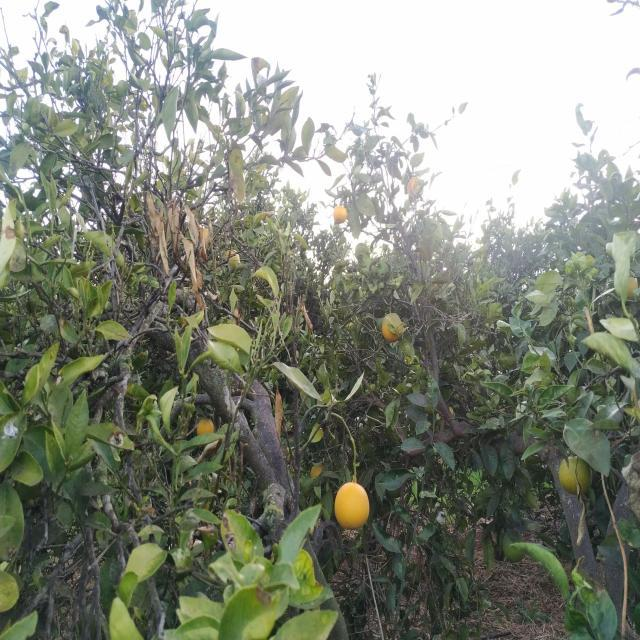Jeruk Belum Matang: (559, 456, 591, 494), (381, 310, 402, 344), (226, 250, 241, 272)
Jeruk Sudah Matang: (335, 481, 373, 531), (197, 418, 215, 440), (331, 204, 348, 226), (408, 176, 423, 196)
